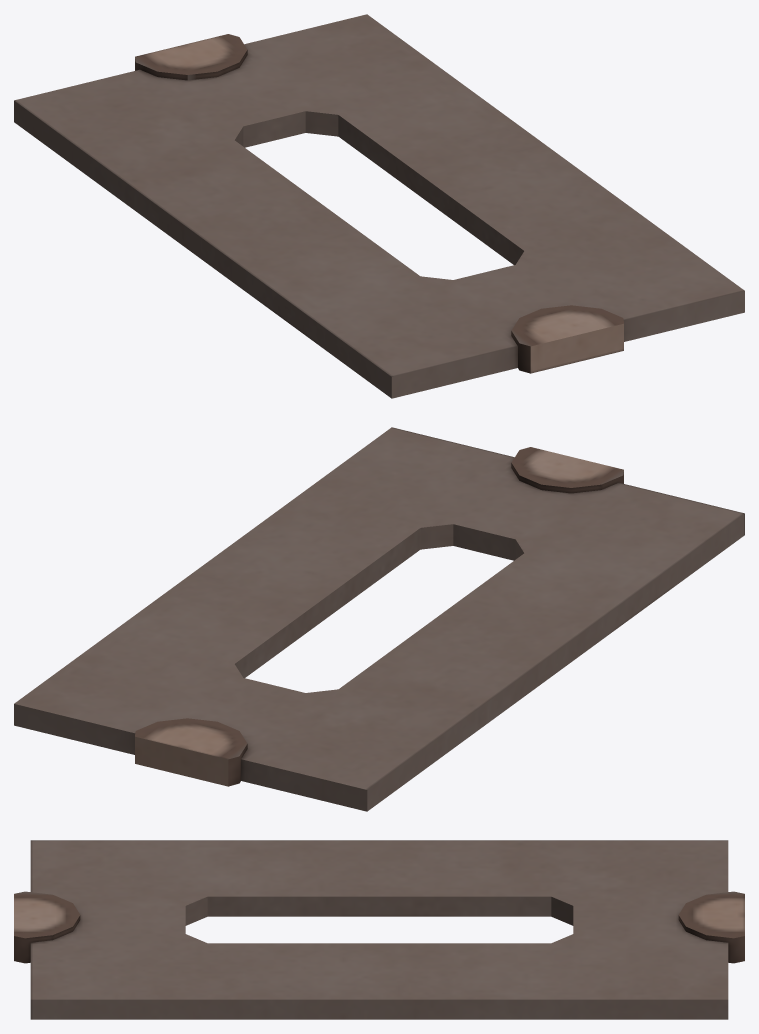
The model's file is track_bed_hole.obj.
The picture shows the model from 3 angles, top to bottom: view 1: azimuth 30°, elevation 25°; view 2: azimuth 150°, elevation 25°; view 3: azimuth 270°, elevation 25°; orthographic projection. The views are drawn at different scales.
Parts seen in each view (by area): view 1: track_bed_hole, end_hinge_1, end_hinge_2; view 2: track_bed_hole, end_hinge_2, end_hinge_1; view 3: track_bed_hole, end_hinge_1, end_hinge_2.
Part boxes in pixels (x1,y1,x2,y2): track_bed_hole: [14, 14, 744, 398]; end_hinge_1: [511, 305, 623, 373]; end_hinge_2: [135, 34, 247, 80]; track_bed_hole: [14, 427, 744, 811]; end_hinge_2: [135, 718, 247, 786]; end_hinge_1: [511, 447, 623, 493]; track_bed_hole: [30, 840, 728, 1019]; end_hinge_1: [14, 891, 80, 963]; end_hinge_2: [678, 891, 744, 963].
Bounding box in the file's own units: 2.12 × 0.1562 × 4.12.
Materials: 2 (2 with a texture image).
